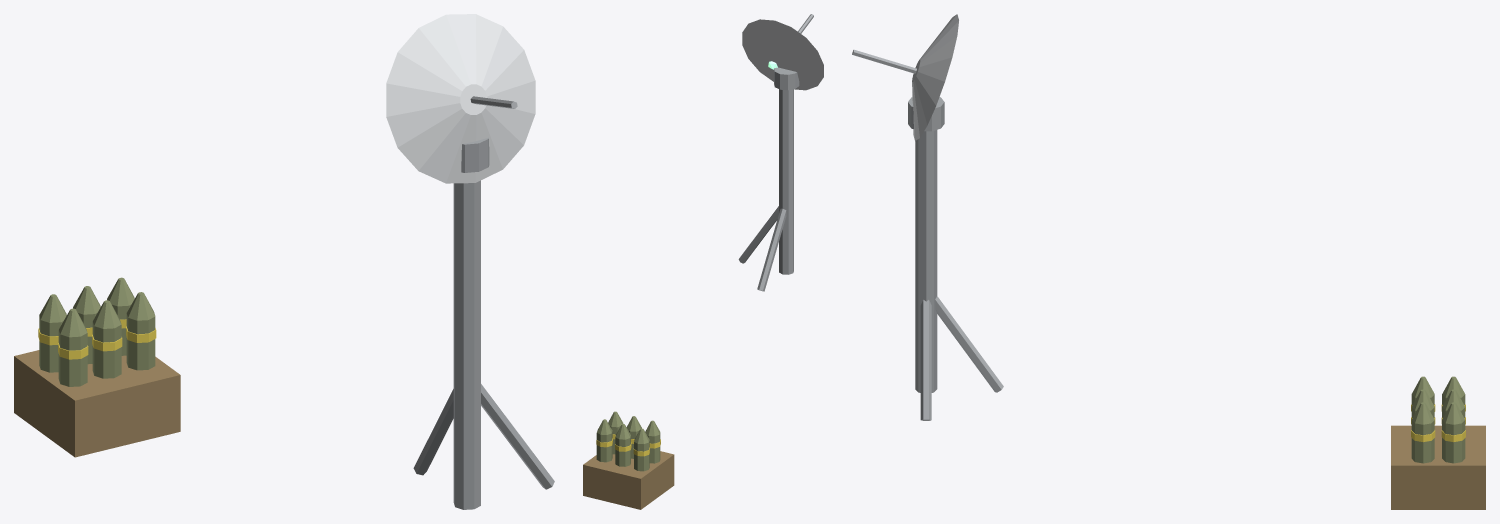
The model's file is multirole.glb.
3 views of the same model, side by side, from view 1: azimuth 30°, elevation 25°; view 2: azimuth 150°, elevation 25°; view 3: azimuth 270°, elevation 25° (orthographic). The views are drawn at different scales.
Visible parts, largest first — view 1: multirole_crate, multirole_radar, multirole_mast; view 2: multirole_crate, multirole_radar, multirole_mast; view 3: multirole_crate, multirole_mast, multirole_radar.
Boxes of the visible parts, x1,y1,x2,y2 form: multirole_crate: (14,277,180,457); multirole_radar: (386,14,535,183); multirole_mast: (413,180,554,509); multirole_crate: (583,411,674,509); multirole_radar: (742,14,823,90); multirole_mast: (738,89,793,291); multirole_crate: (1391,376,1485,509); multirole_mast: (915,130,1003,420); multirole_radar: (852,14,958,140).
Size of the model in its own units: 0.2643 by 0.8774 by 1.04.
